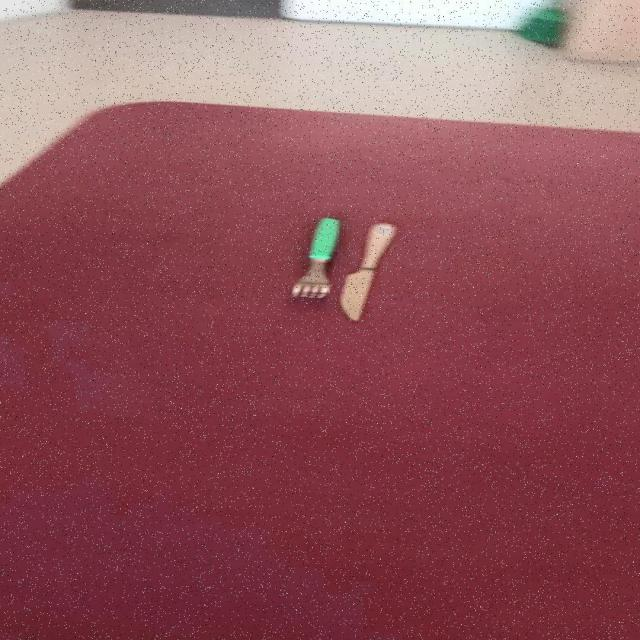Fork: (292, 217, 342, 299)
Knife: (341, 222, 399, 322)
